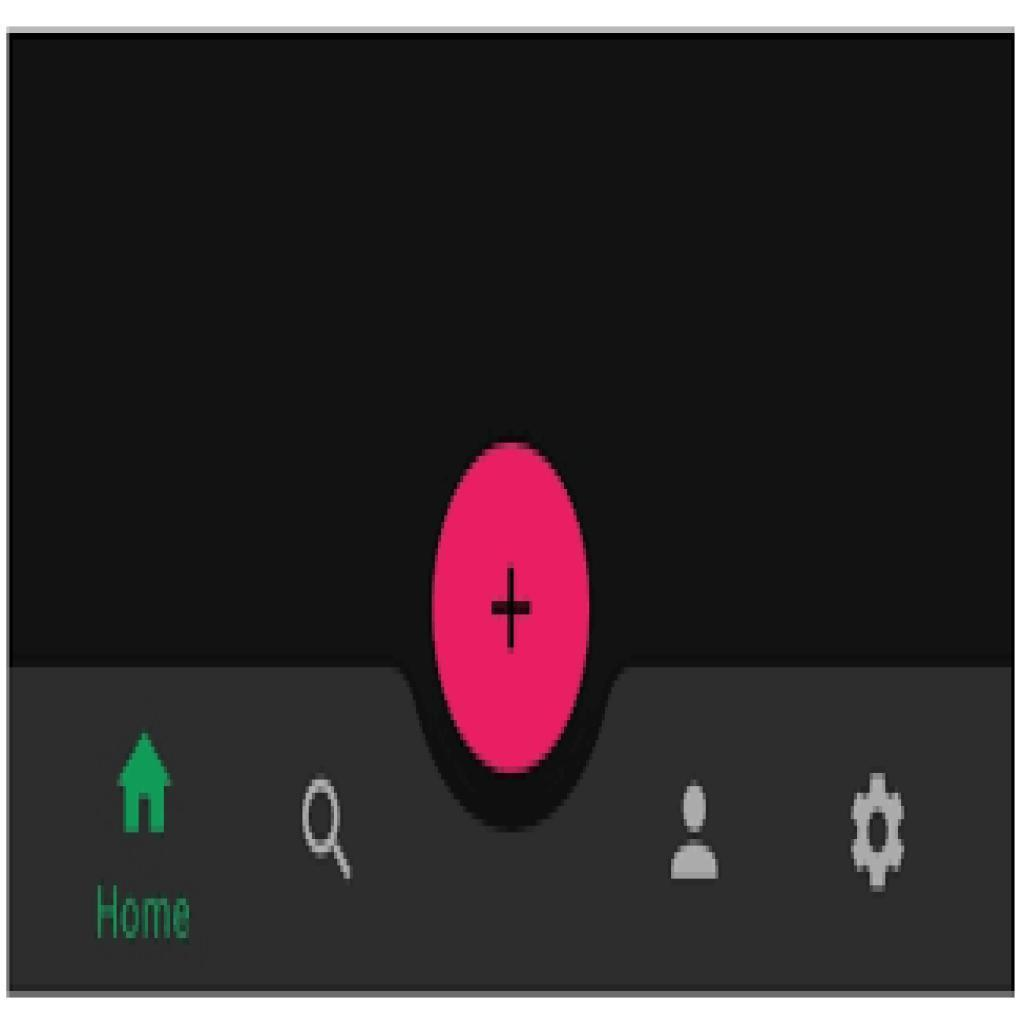icon: (841, 767, 916, 901), (294, 772, 364, 893), (661, 775, 726, 894), (117, 731, 174, 851)
